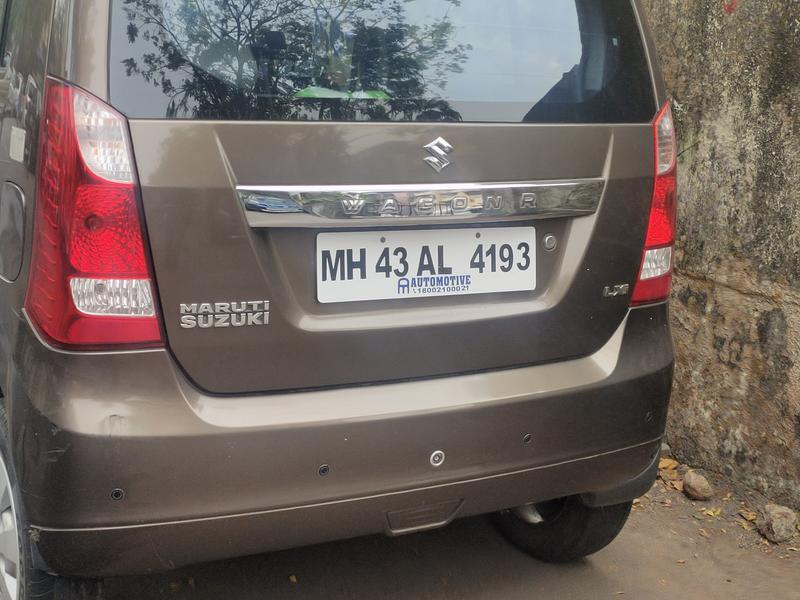license_plate: (313, 220, 539, 318)
